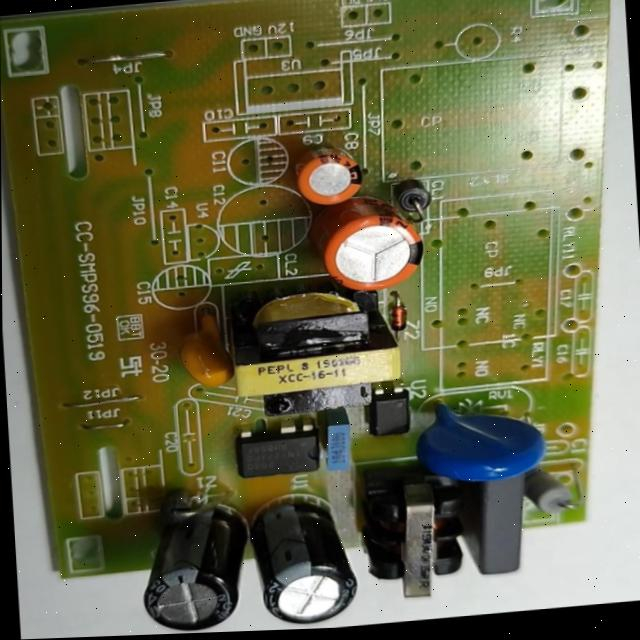Cap1: (311, 191, 430, 302)
Cap2: (289, 142, 373, 214)
Cap3: (247, 489, 368, 631)
Cap4: (134, 493, 251, 635)
MOSFET: (232, 420, 333, 485)
Mov: (414, 391, 551, 489)
Resistor: (519, 462, 581, 524)
Transformer: (219, 274, 414, 421), (350, 459, 482, 610)
